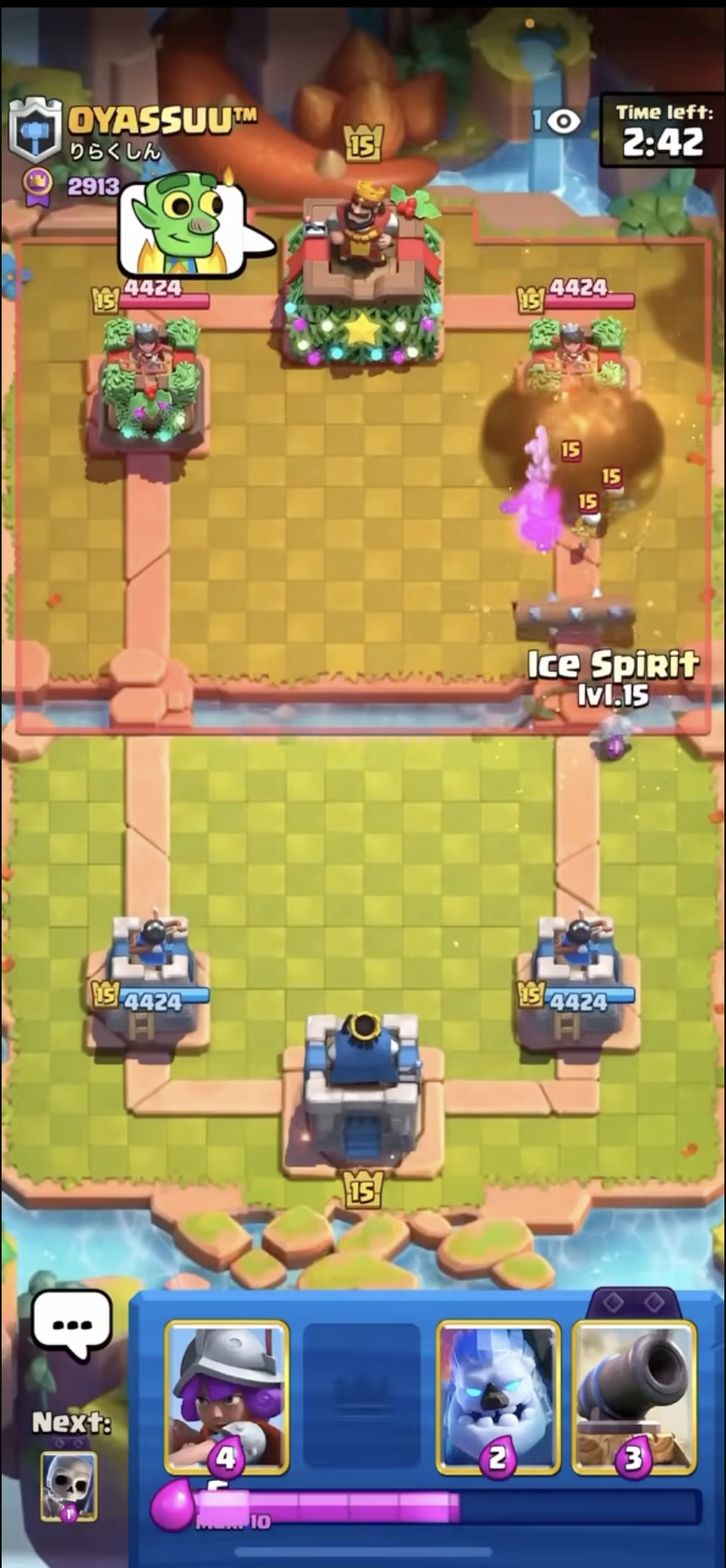ice-spirit: (594, 703, 640, 752)
log: (503, 586, 648, 639)
